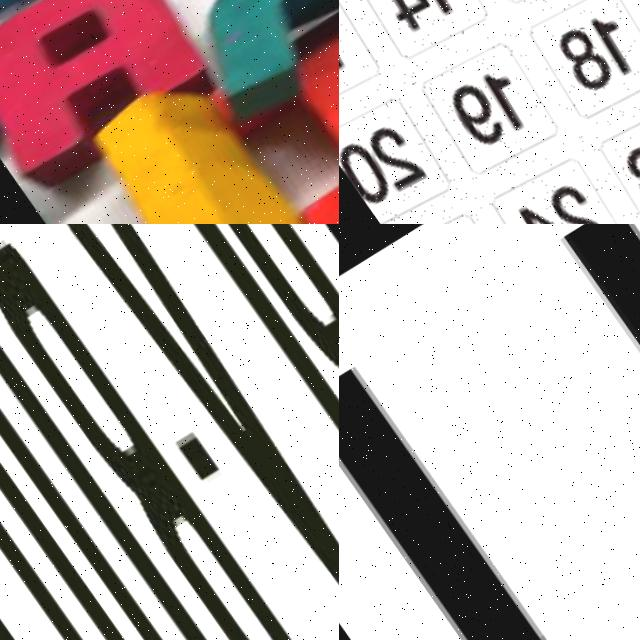0: (339, 127, 393, 212)
1: (454, 55, 535, 144), (565, 0, 640, 80), (392, 0, 465, 25)
2: (339, 108, 426, 197), (521, 165, 603, 224)
3: (591, 128, 640, 216)
4: (353, 0, 439, 44), (486, 189, 562, 224)
8: (522, 4, 615, 103)
9: (418, 71, 510, 163)
A: (0, 0, 226, 200)
B: (0, 224, 326, 640)
D: (0, 264, 266, 640)
E: (0, 354, 136, 640)
K: (115, 0, 339, 132)
L: (116, 224, 339, 640), (0, 57, 320, 224)
R: (157, 224, 339, 616)
U: (339, 224, 640, 640), (0, 294, 214, 640)
V: (41, 224, 339, 640)
